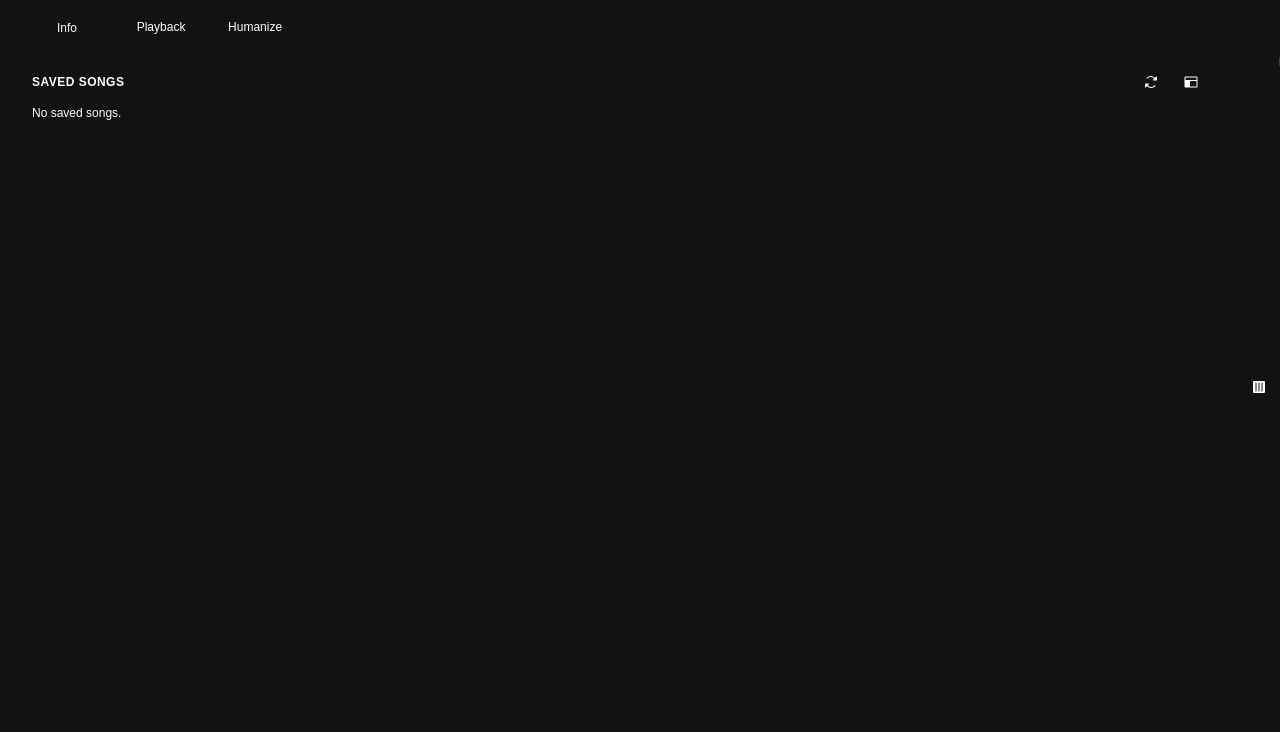
Scenario: PlaybackTab humanize explanations › puts the Invert Sway icon right after its checkbox label, in its own row
This screenshot has width=1280, height=732.
Click the button "Humanize".
click(255, 27)  # box [212,12,298,42]
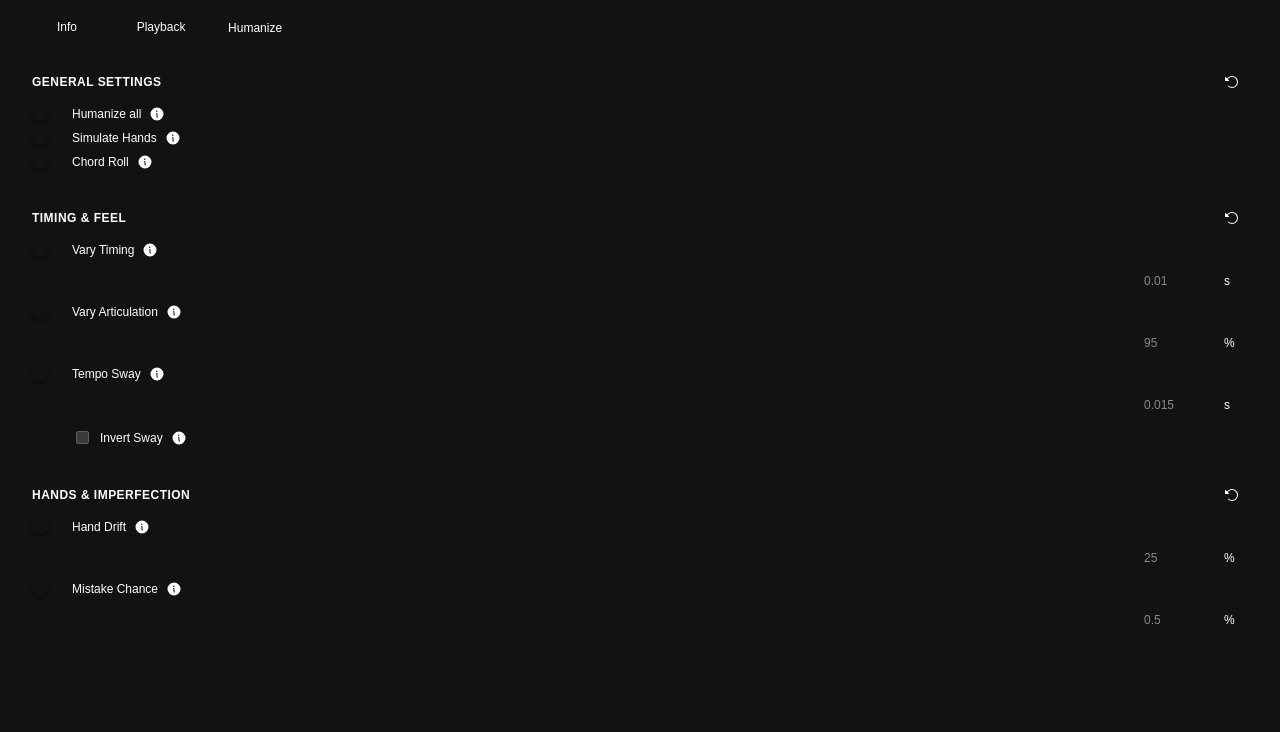
Result: the text "Invert Sway" is shown at [72,428,163,447]
